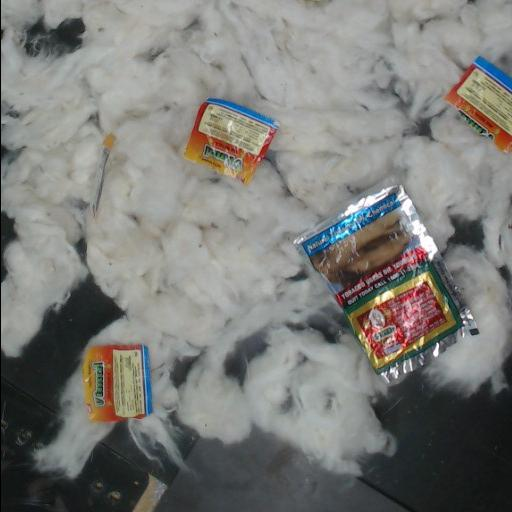conveyor belt: (1, 279, 512, 511), (25, 19, 84, 55), (226, 334, 265, 382), (450, 219, 482, 248), (307, 317, 336, 342), (172, 358, 197, 384), (1, 215, 14, 249)
cotton: (1, 0, 512, 477)
packet: (293, 185, 479, 383), (184, 98, 277, 182), (446, 57, 512, 152), (82, 344, 152, 422), (102, 135, 114, 175)
